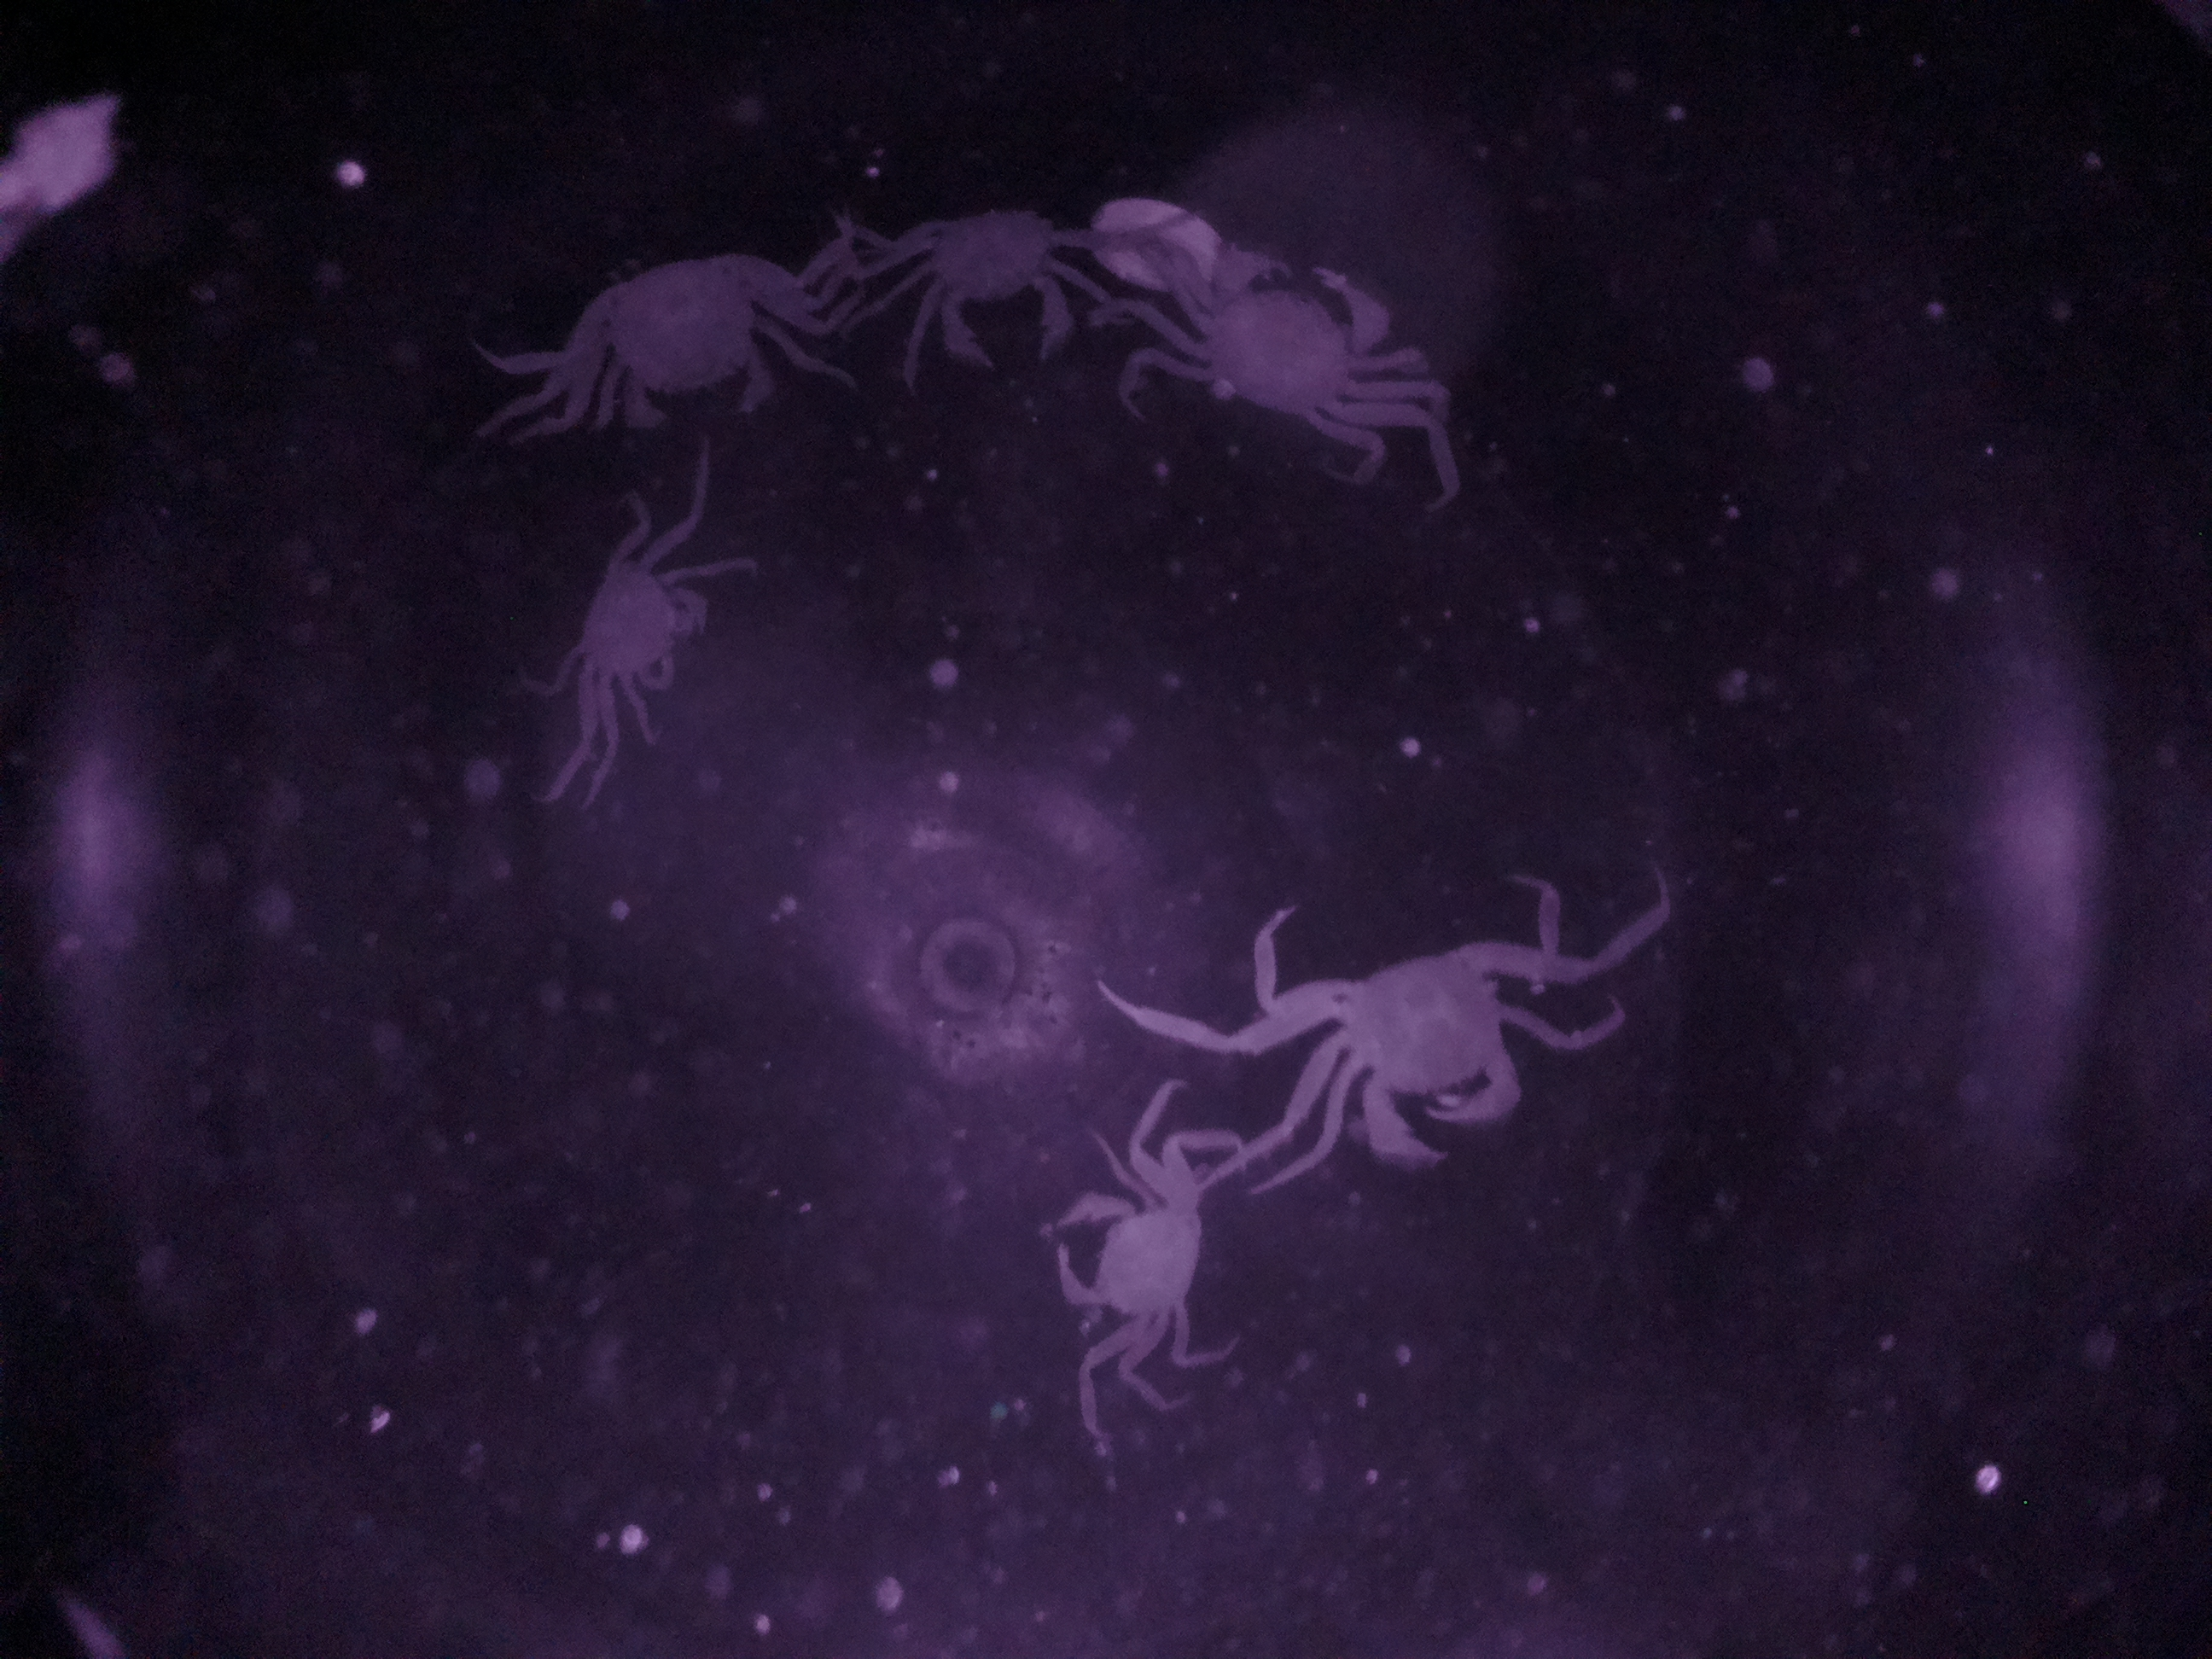Crab: (1233, 908, 1573, 1176), (535, 227, 850, 457), (1155, 218, 1437, 443), (862, 192, 1130, 396), (1031, 1121, 1221, 1384), (540, 507, 712, 721)
